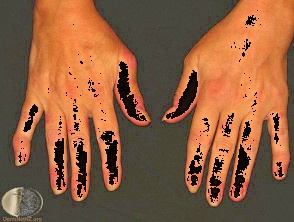Nail_psoriasis: (156, 103, 182, 125), (132, 104, 154, 128), (183, 170, 203, 196), (227, 180, 249, 203), (205, 182, 225, 207), (50, 171, 69, 197), (70, 179, 89, 204), (104, 170, 122, 192), (272, 162, 290, 181), (11, 148, 27, 169)
